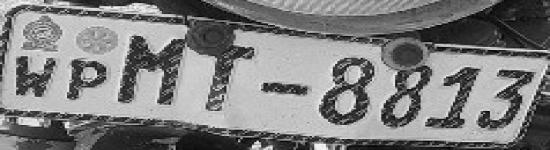1: (414, 56, 491, 137)
3: (463, 63, 543, 138)
8: (372, 55, 444, 134), (316, 52, 378, 130)
M: (116, 31, 195, 110)
P: (63, 57, 113, 106)
T: (196, 37, 256, 116)
W: (10, 52, 63, 102)
